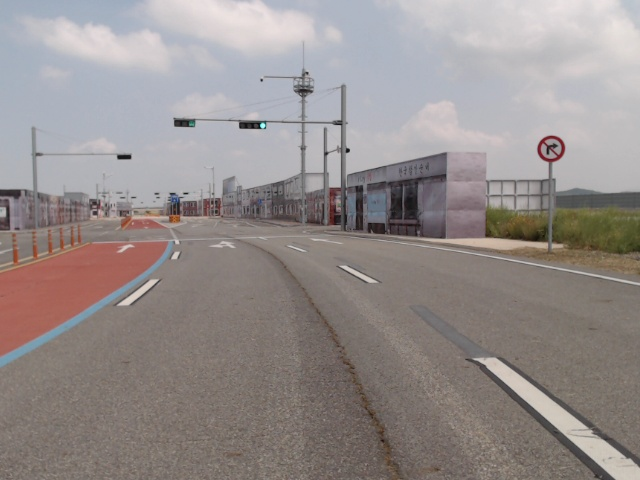straight_green_4: (239, 122, 267, 130)
